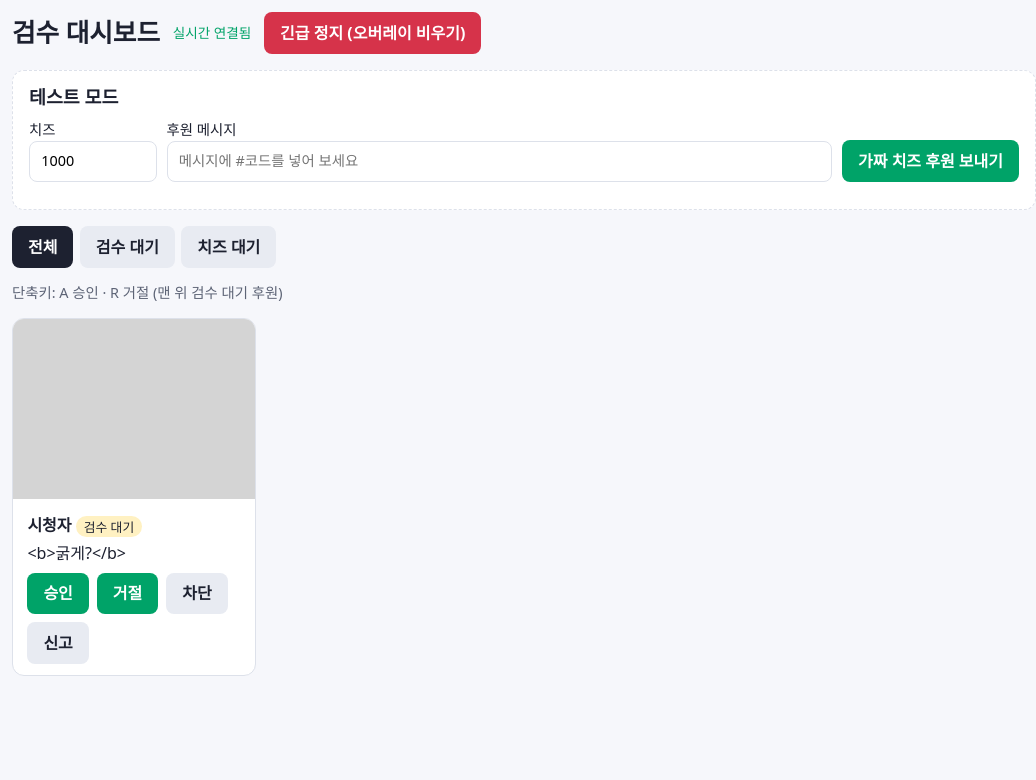
Test case: DashboardPage › Dashboard_ApproveButtonCallsApi
This screenshot has width=1036, height=780.
Expected: the text "<b>굵게?</b>" is shown, [27,542,126,564]
Click the button "승인".
click(58, 593)  # box [27,572,89,614]
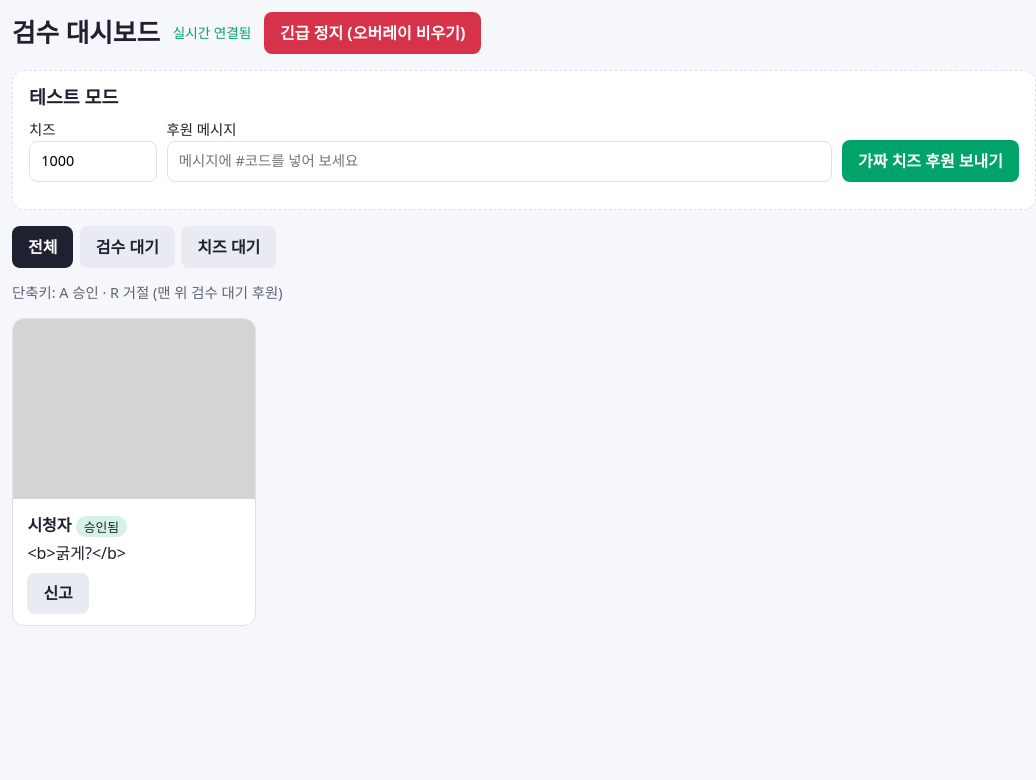
Now the text "승인됨" is shown, box [76,516,127,537]
